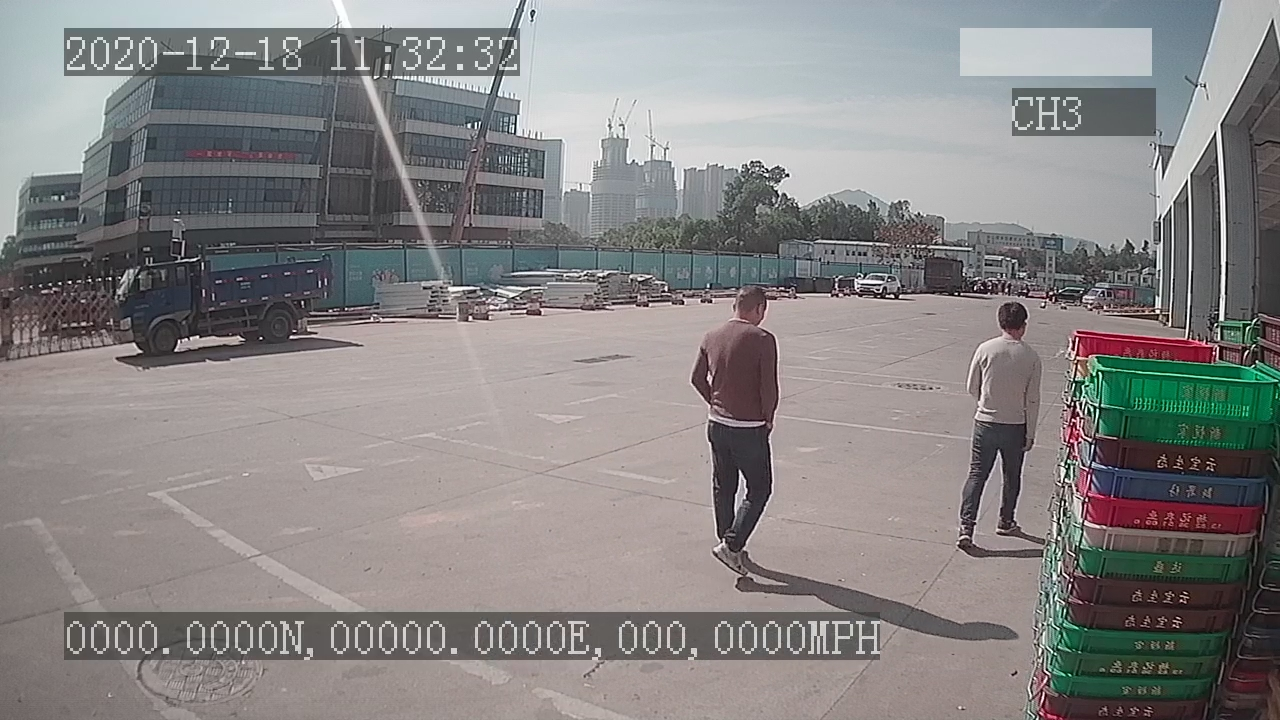person: (687, 281, 785, 579), (958, 300, 1041, 547)
